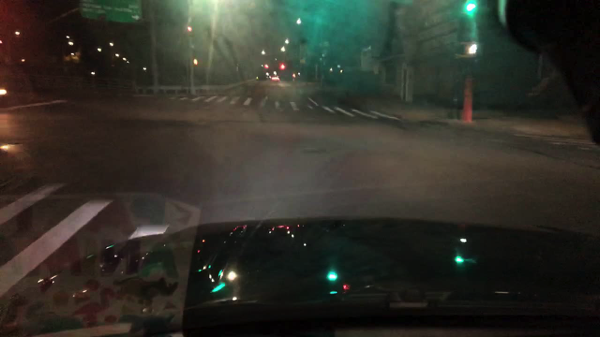car: (0, 73, 34, 107), (285, 70, 302, 82), (270, 75, 279, 84)
traffic light: (459, 42, 483, 59), (463, 1, 477, 18), (186, 24, 193, 34), (279, 63, 287, 70), (194, 56, 198, 67), (264, 63, 269, 71)
traffic sign: (77, 1, 144, 25)
